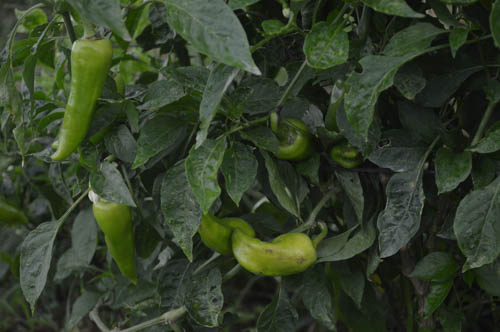ChiliPepper: (50, 38, 109, 155), (96, 198, 145, 283), (233, 230, 316, 277), (197, 212, 252, 251), (275, 118, 311, 162)
